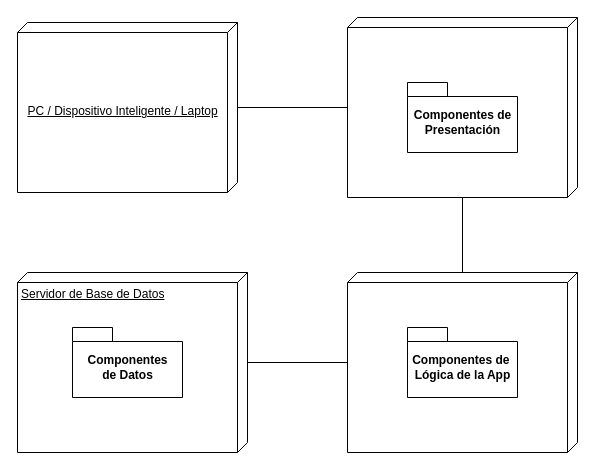
The diagram is 595 pixels wide and 470 high, and some of its shapes have lost their labels. The shapes that lost their labels are listed below. From the top down, each one's box as (x1, y1, x2, y2) in pixels, then its label:
(346, 16, 578, 198): Servidor web
(346, 272, 578, 452): Servidor de Lógica de la Aplicación
